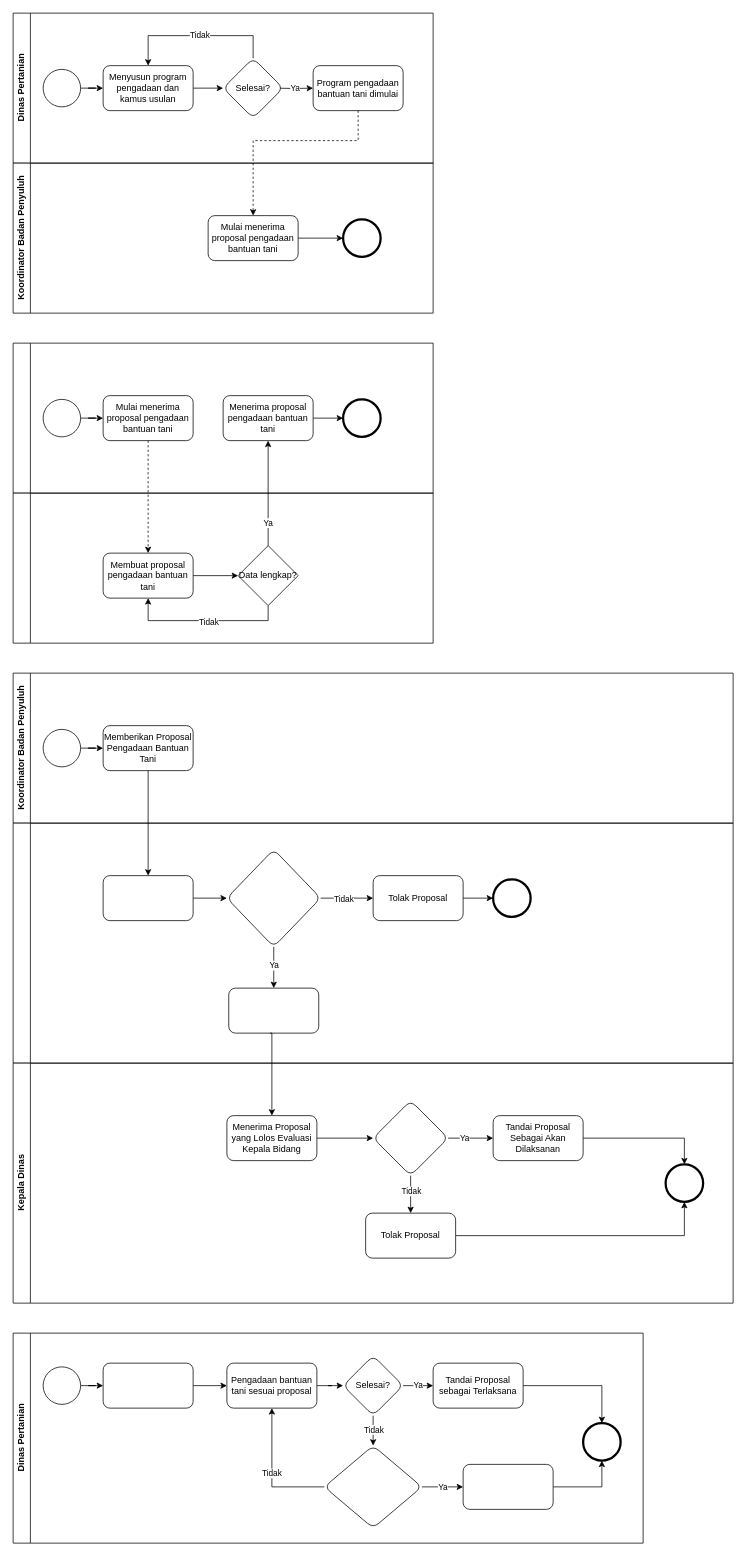
Image size: 746x1556. Some labels were removed from this diagram. Here are the shapes that lost their labels. From the top down, the box of each, then its label:
(12, 342, 433, 493): Koordinator Badan Penyuyluh
(12, 492, 433, 643): Horizontal Container
(102, 875, 193, 921): Evaluasi Proposal Pengadaan Bantuan Tani
(226, 849, 321, 947): Memungkinkan untuk dilaksanakan?
(12, 822, 733, 1063): Kepala Bidang
(228, 987, 319, 1033): Ajukan pelaksanaan ke Kepala Dinas
(372, 1100, 448, 1176): Setujui pelaksanaan?
(102, 1362, 193, 1408): Membuat daftar proposal pengadaan bantuan tani yang akan dilaksanakan
(324, 1445, 422, 1528): Ditangguhkan untuk Pengadaan Berikutnya?
(462, 1464, 553, 1509): Tandai Proposal sebagai Ditangguhkan
